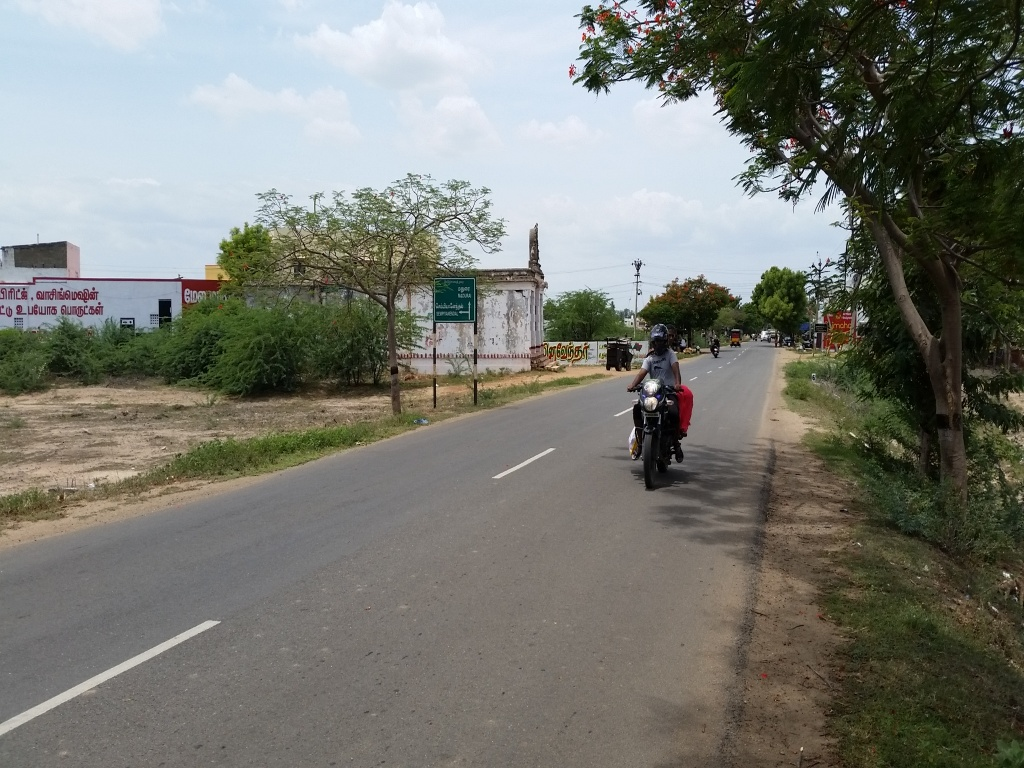biker: (606, 302, 718, 504)
helmet: (646, 319, 668, 359)
nohelmet: (666, 320, 678, 358)
